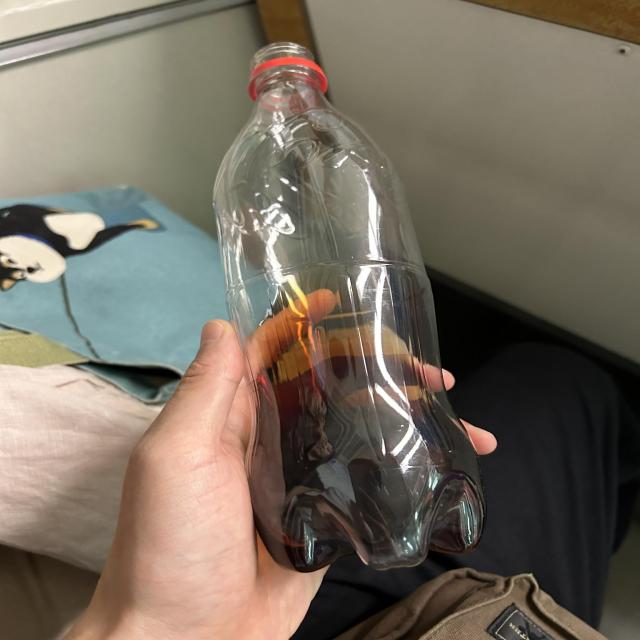low: (214, 43, 486, 572)
